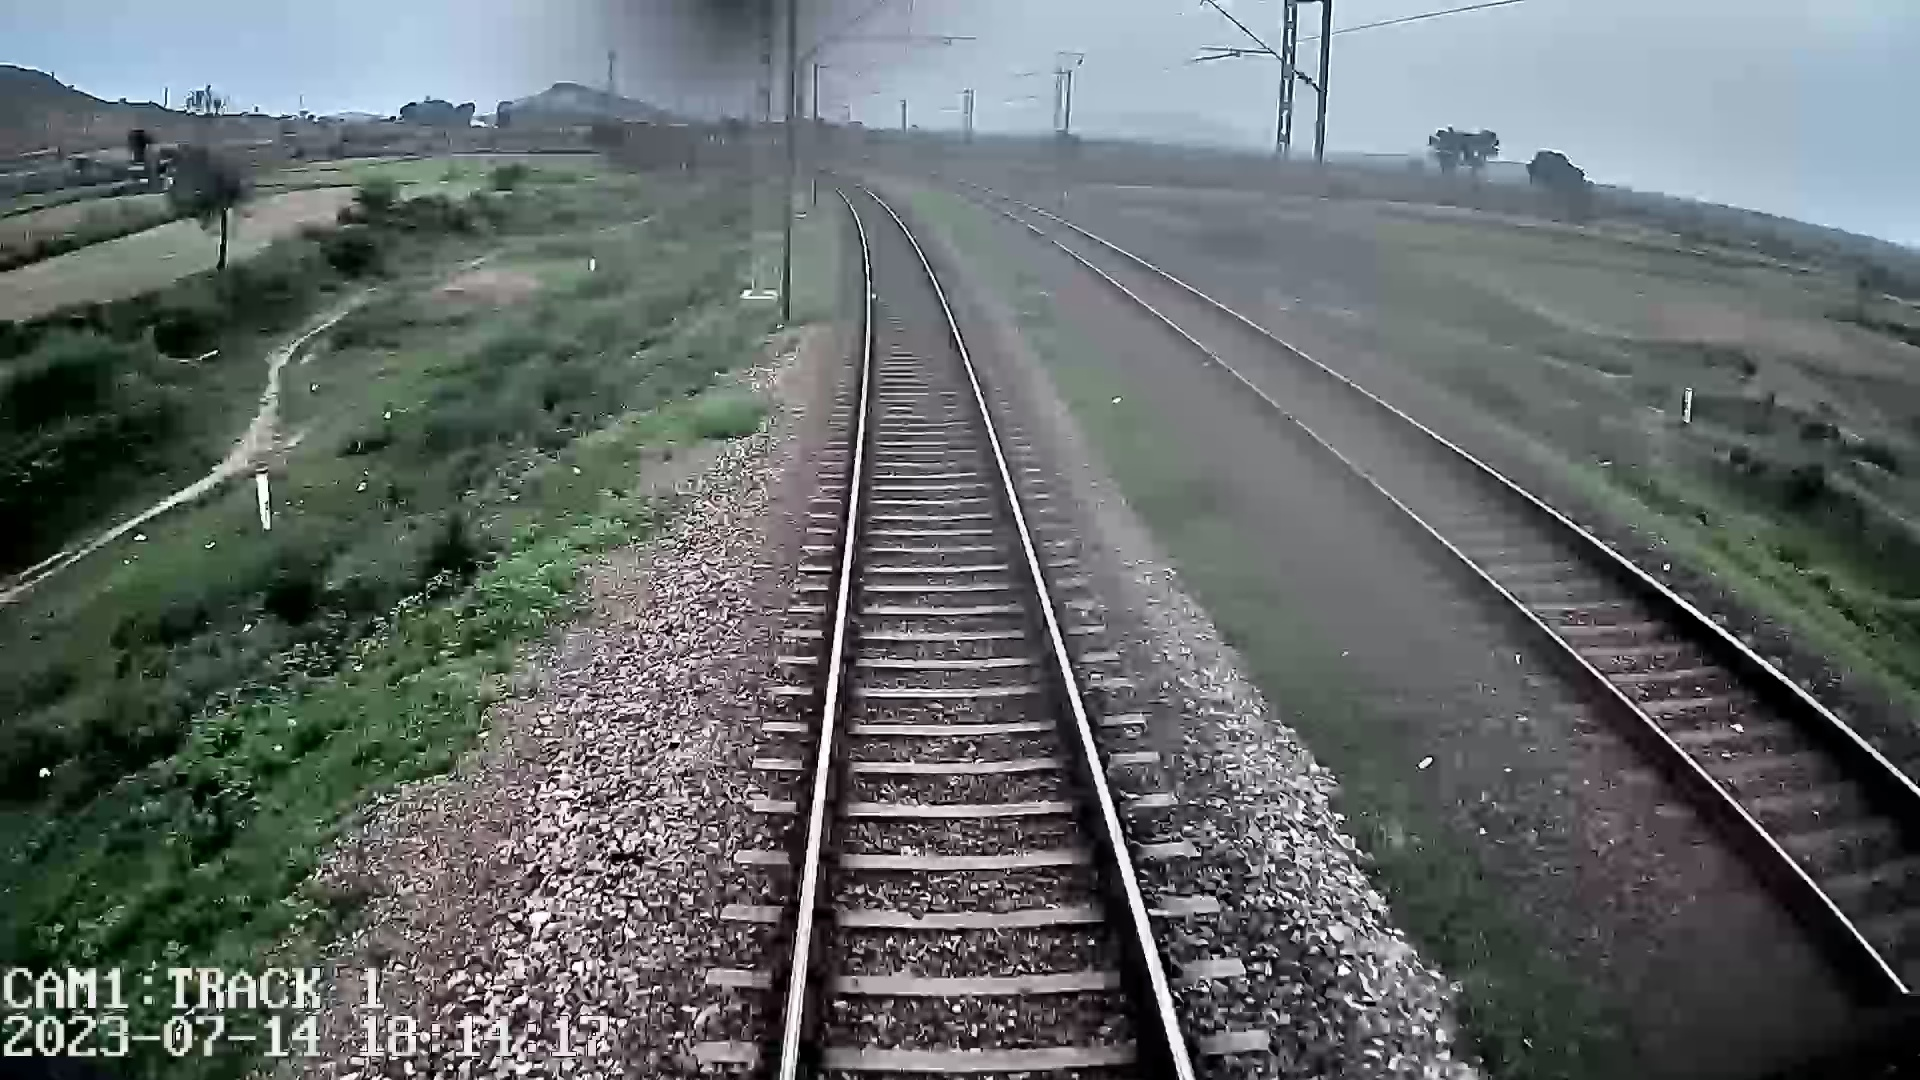track1: (793, 181, 1185, 1073)
track2: (1007, 207, 1917, 988)
